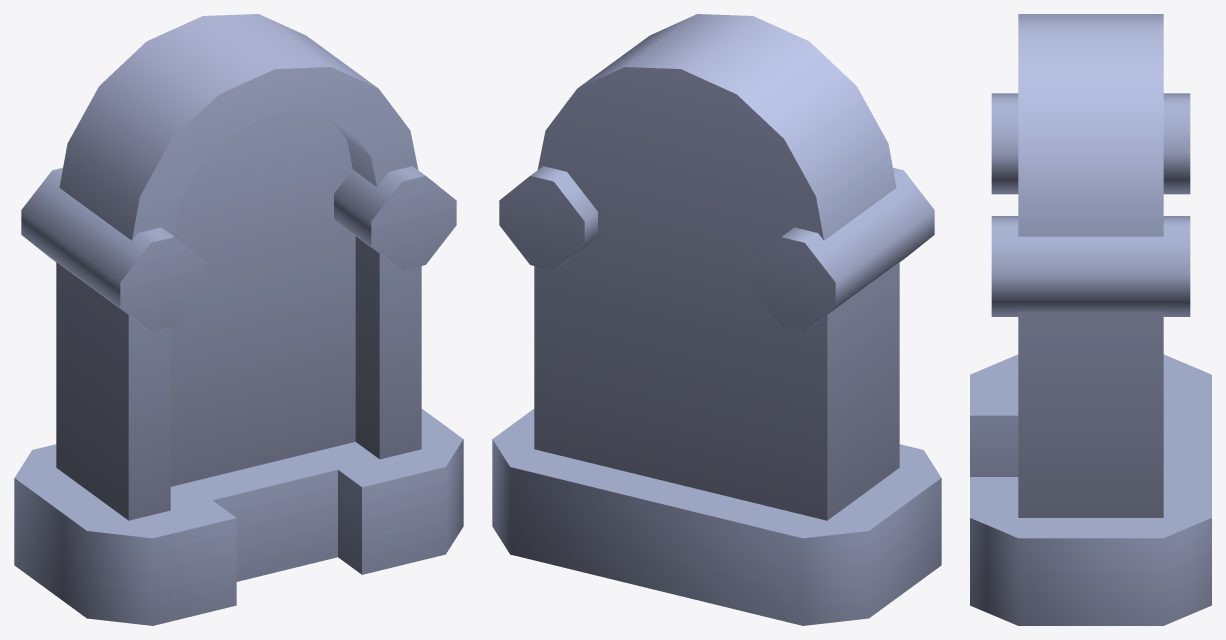
File: k-graveyard-gravestone-round.glb
3 renders of one model, left to right at view 1: azimuth 30°, elevation 25°; view 2: azimuth 150°, elevation 25°; view 3: azimuth 270°, elevation 25°, orthographic.
Parts seen in each view (by area): view 1: gravestone-round; view 2: gravestone-round; view 3: gravestone-round.
Part boxes in pixels (x1,y1,x2,y2): gravestone-round: [14, 14, 463, 625]; gravestone-round: [492, 14, 941, 625]; gravestone-round: [970, 14, 1211, 625].
Bounding box in the file's own units: 0.45 × 0.575 × 0.25.
Materials: 1 (1 with a texture image).
